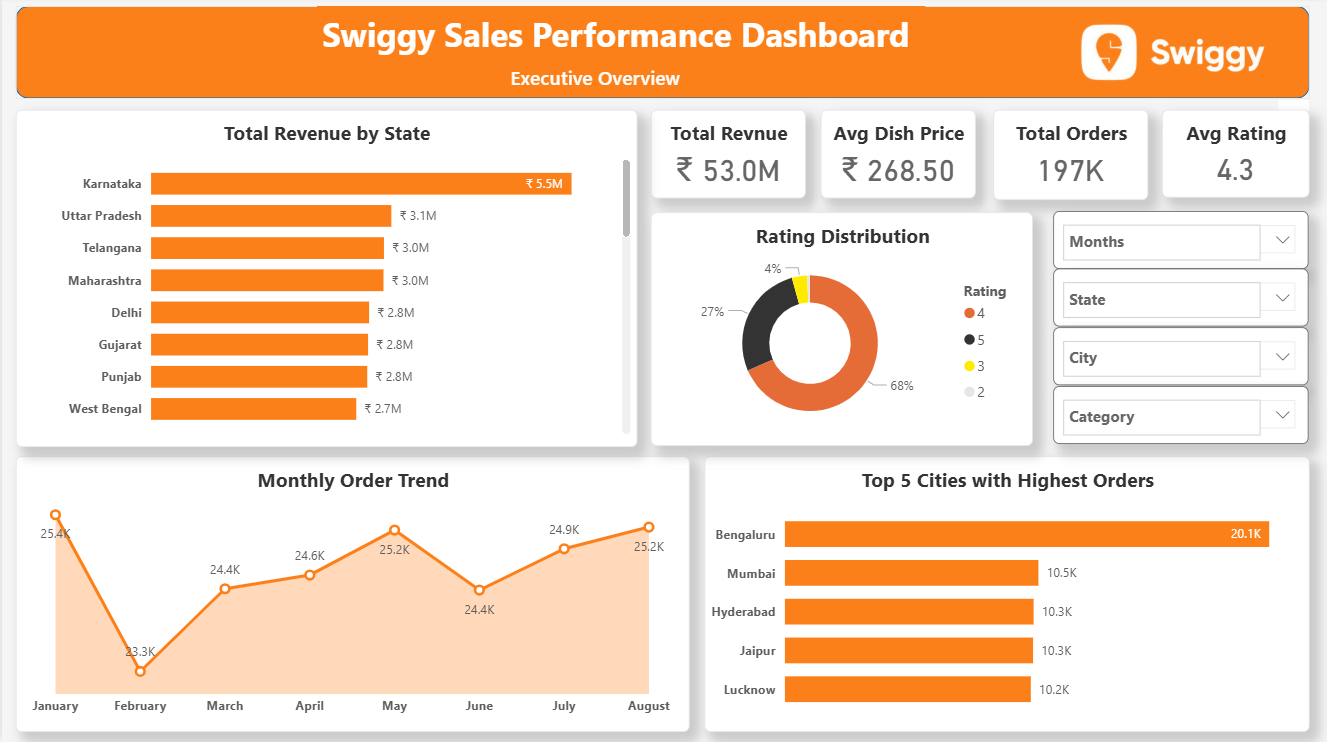

This screenshot's page, from the dashboard's own definition file:
{"tool":"powerbi","page":{"name":"Page 1","canvas":[1280,720],"ordinal":0},"visuals":[{"type":"shape","box":[13.3,9.7,1248.7,89.3],"z":0},{"type":"group","id":"g1","title":"Group 2","box":[1015.2,207.5,246.7,56.3],"z":0,"group":"g9"},{"type":"group","id":"g2","title":"Group 1","box":[1015.2,207.5,246.7,56.3],"z":0,"group":"g1"},{"type":"group","id":"g3","title":"Group 1","box":[1014.6,262.8,246.7,56.3],"z":0,"group":"g6"},{"type":"group","id":"g4","title":"Group 1","box":[1014.6,319.2,246.7,56.3],"z":0,"group":"g7"},{"type":"group","id":"g5","title":"Group 1","box":[1014.6,376.8,246.7,56.3],"z":0,"group":"g8"},{"type":"image","box":[1040,13.8,180,82.5],"z":1000},{"type":"slicer","title":"Year","fields":{"Values":["dim_date.Month_name"]},"box":[1015.2,207.5,246.7,56.3],"z":1000,"group":"g2"},{"type":"textbox","box":[1024.6,220.6,190.6,34.2],"z":1000,"group":"g1"},{"type":"group","id":"g6","title":"Group 2","box":[1014.6,262.8,246.7,56.3],"z":1000,"group":"g9"},{"type":"slicer","title":"Year","fields":{"Values":["dim_location.State"]},"box":[1014.6,262.8,246.7,56.3],"z":1000,"group":"g3"},{"type":"textbox","box":[1024,275.9,190.6,34.2],"z":1000,"group":"g6"},{"type":"slicer","title":"Year","fields":{"Values":["dim_location.City"]},"box":[1014.6,319.2,246.7,56.3],"z":1000,"group":"g4"},{"type":"textbox","box":[1024,332.3,190.6,34.2],"z":1000,"group":"g7"},{"type":"slicer","title":"Year","fields":{"Values":["dim_category.Category"]},"box":[1014.6,376.8,246.7,56.3],"z":1000,"group":"g5"},{"type":"textbox","box":[1024,389.9,190.6,34.2],"z":1000,"group":"g8"},{"type":"textbox","box":[303.8,10,587.5,53.8],"z":2000},{"type":"group","id":"g7","title":"Group 2","box":[1014.6,319.2,246.7,56.3],"z":2000,"group":"g9"},{"type":"card","title":"Total Orders","fields":{"Values":["fact_swiggy_orders.Total Orders"]},"box":[956.7,109.8,149.6,86.9],"z":3000},{"type":"group","id":"g8","title":"Group 2","box":[1014.6,376.8,246.7,56.3],"z":3000,"group":"g9"},{"type":"card","title":"Total Revnue","fields":{"Values":["fact_swiggy_orders.Total Revenue"]},"box":[626.1,109.8,149.6,85.7],"z":4000},{"type":"card","title":"Avg Dish Price","fields":{"Values":["fact_swiggy_orders.Avg Dish Price"]},"box":[790.2,109.8,149.6,85.7],"z":5000},{"type":"card","title":"Avg Rating","fields":{"Values":["fact_swiggy_orders.Avg Rating"]},"box":[1119.6,109.8,142.4,84.5],"z":6000},{"type":"lineChart","title":"Monthly Order Trend","fields":{"Category":["dim_date.Month_name"],"Y":["fact_swiggy_orders.Total Orders"]},"box":[13.3,444,650.3,266.6],"z":7000},{"type":"clusteredBarChart","fields":{"Category":["dim_location.State"],"Y":["fact_swiggy_orders.Total Revenue"]},"box":[13.3,109.8,599.6,325.7],"z":8000},{"type":"textbox","box":[460,61.2,231.2,35],"z":9000},{"type":"clusteredBarChart","title":"Top 5 Cities with Highest Orders","fields":{"Category":["dim_location.City"],"Y":["fact_swiggy_orders.Total Orders"]},"box":[678,444,583.9,266.6],"z":10000},{"type":"group","id":"g9","title":"Group 3","box":[1014.6,207.5,247.3,225.6],"z":11000},{"type":"donutChart","title":"Rating Distribution","fields":{"Category":["fact_swiggy_orders.Rating Group"],"Y":["fact_swiggy_orders.Total Orders"]},"box":[626.1,208.7,369.2,225.6],"z":12000}]}

Visuals, with their boxes in screenshot pixels (x1, y1, x2, y2), scaled from the page's 1280x720 canvas onto the 1327x742 screenshot:
shape: <box>14,10,1308,102</box>
"Group 2" group: <box>1052,214,1308,272</box>
"Group 1" group: <box>1052,214,1308,272</box>
"Group 1" group: <box>1052,271,1308,329</box>
"Group 1" group: <box>1052,329,1308,387</box>
"Group 1" group: <box>1052,388,1308,446</box>
image: <box>1078,14,1265,99</box>
"Year" slicer: <box>1052,214,1308,272</box>
textbox: <box>1062,227,1260,263</box>
"Group 2" group: <box>1052,271,1308,329</box>
"Year" slicer: <box>1052,271,1308,329</box>
textbox: <box>1062,284,1259,320</box>
"Year" slicer: <box>1052,329,1308,387</box>
textbox: <box>1062,342,1259,378</box>
"Year" slicer: <box>1052,388,1308,446</box>
textbox: <box>1062,402,1259,437</box>
textbox: <box>315,10,924,66</box>
"Group 2" group: <box>1052,329,1308,387</box>
"Total Orders" card: <box>992,113,1147,203</box>
"Group 2" group: <box>1052,388,1308,446</box>
"Total Revnue" card: <box>649,113,804,201</box>
"Avg Dish Price" card: <box>819,113,974,201</box>
"Avg Rating" card: <box>1161,113,1308,200</box>
"Monthly Order Trend" lineChart: <box>14,458,688,732</box>
clusteredBarChart - dim_location.State x fact_swiggy_orders.Total Revenue: <box>14,113,635,449</box>
textbox: <box>477,63,717,99</box>
"Top 5 Cities with Highest Orders" clusteredBarChart: <box>703,458,1308,732</box>
"Group 3" group: <box>1052,214,1308,446</box>
"Rating Distribution" donutChart: <box>649,215,1032,448</box>
